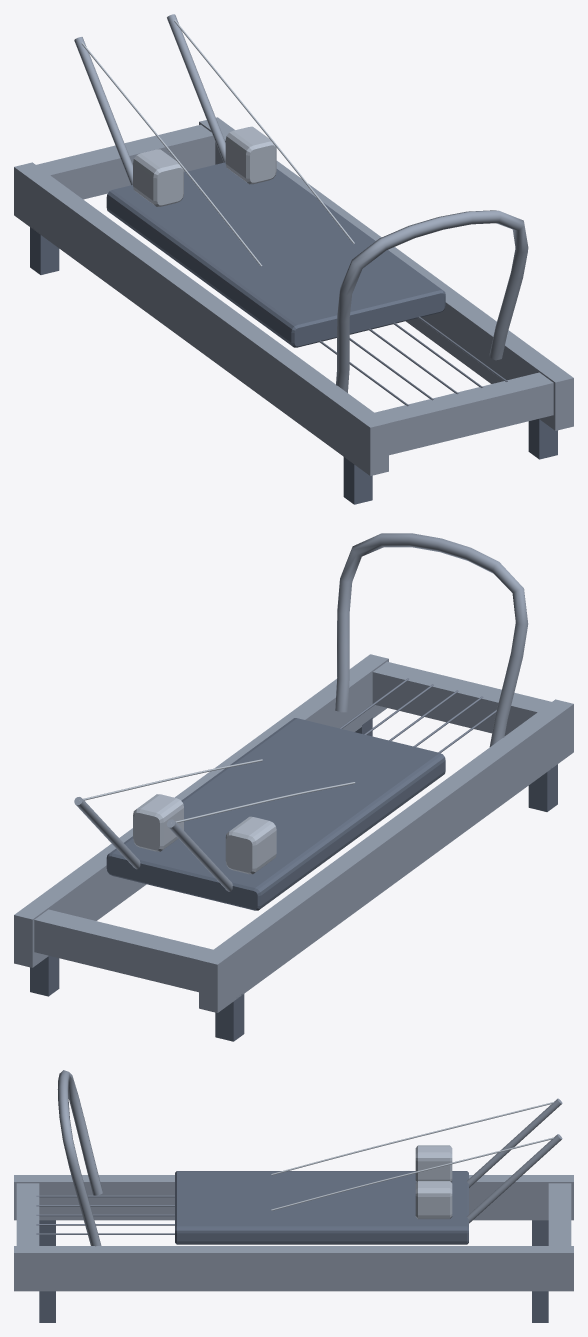
File: pilates-reformer-lite.glb
3 renders of one model, top to bottom at view 1: azimuth 30°, elevation 25°; view 2: azimuth 150°, elevation 25°; view 3: azimuth 270°, elevation 25°, orthographic. The views are drawn at different scales.
Parts seen in each view (by area): view 1: body, dark, soft, light, accent; view 2: body, dark, soft, accent, light; view 3: body, dark, soft, accent, light.
Boxes of the visible parts, x1,y1,x2,y2 form: body: (14,14,573,475); dark: (30,162,557,504); soft: (133,126,276,206); light: (81,20,354,266); accent: (319,316,507,406); body: (14,533,573,1012); dark: (30,717,557,1041); soft: (133,794,276,874); accent: (339,678,496,752); light: (79,759,355,822); body: (14,1070,573,1291); dark: (39,1171,548,1322); soft: (415,1145,452,1219); accent: (36,1195,174,1234); light: (271,1100,559,1210).
Size of the model in its own units: 0.66 by 0.7794 by 2.
